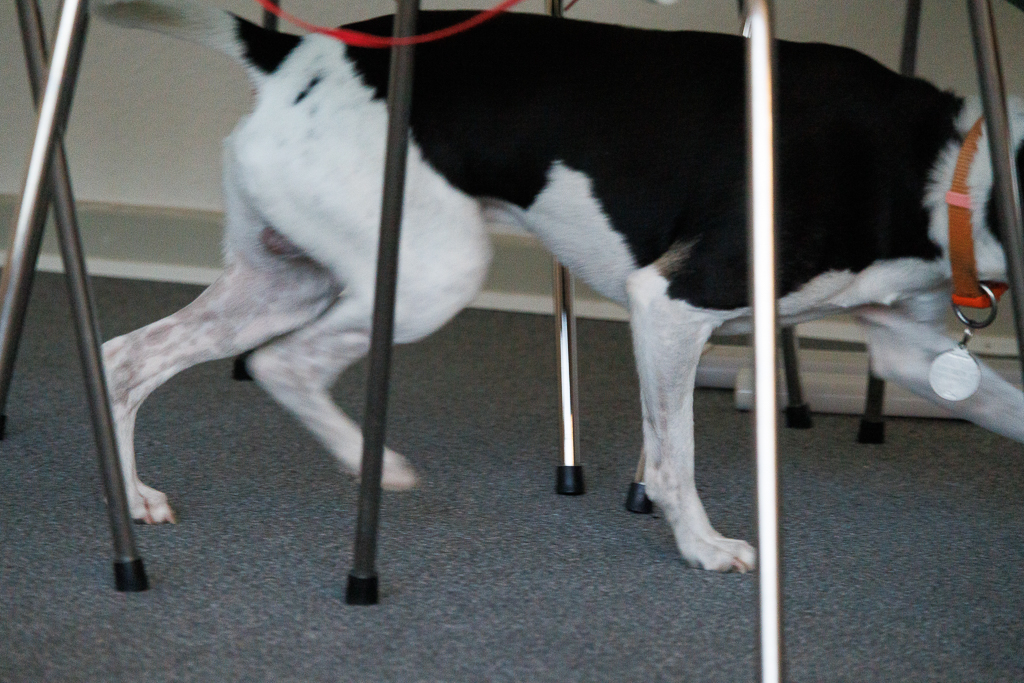Dog: (78, 0, 1024, 581)
